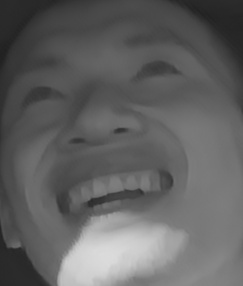eye: (126, 57, 185, 89), (17, 80, 67, 112)
mouth: (50, 157, 176, 236)
